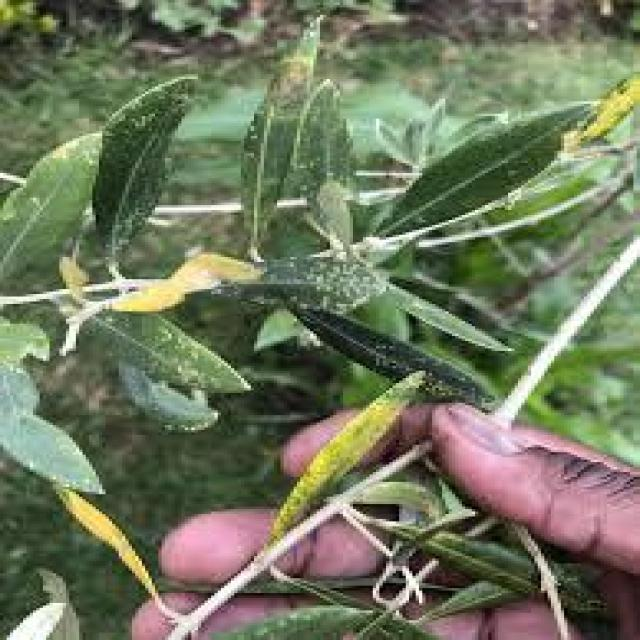Peacock Eye: (264, 371, 426, 546), (244, 15, 320, 259)
